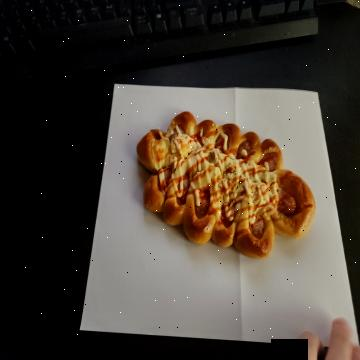pizza_bread: (136, 110, 315, 262)
